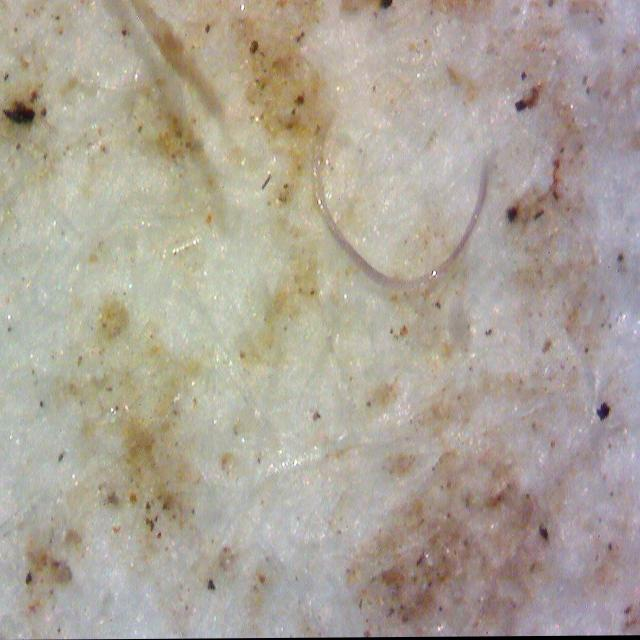microplastic: (303, 138, 494, 301)
